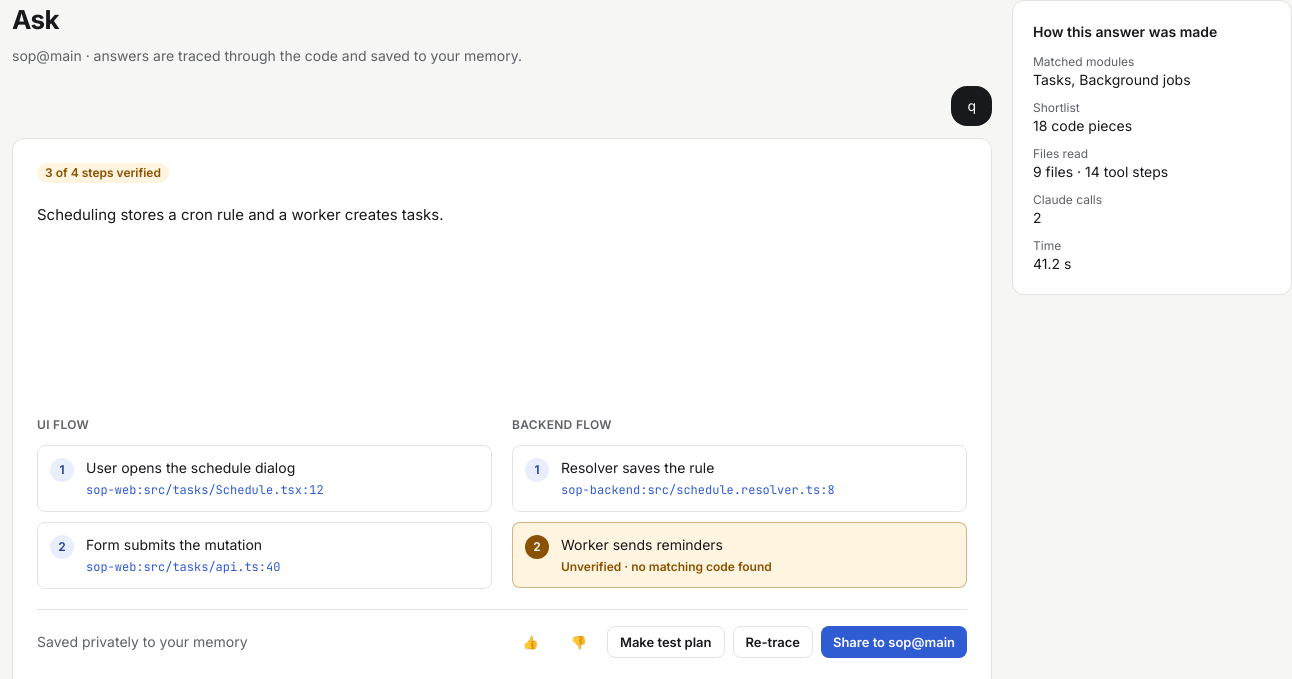
Test case: citation refused shows the reason
Click the button "sop-web:src/tasks/Schedule.tsx:12" at (205, 490), box [86,482,324,498]
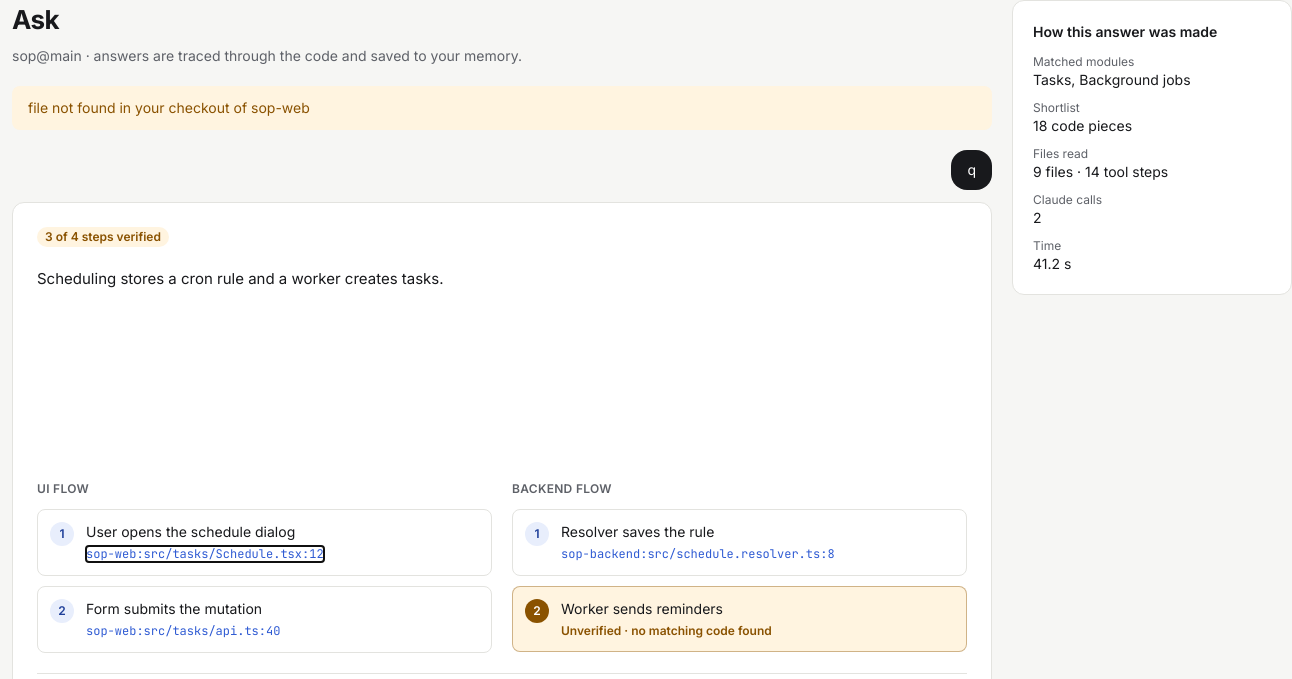
Now the text "file not found in your checkout of sop-web" is shown, box [12,86,992,130]
